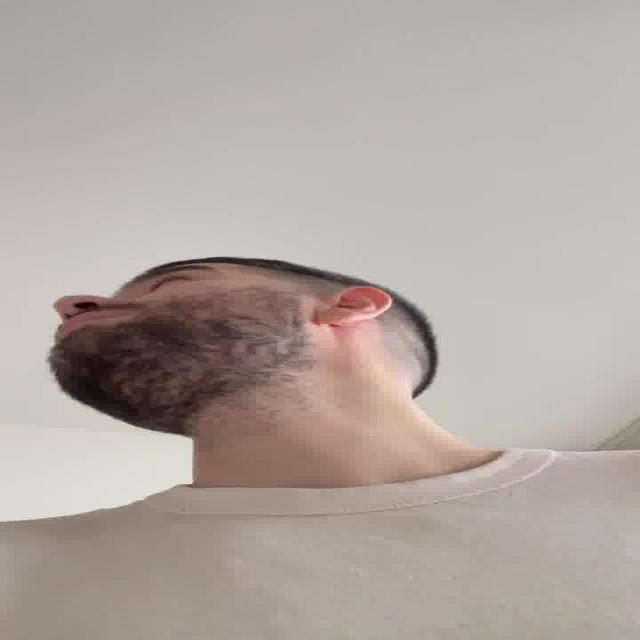earlobe: (312, 284, 394, 327)
